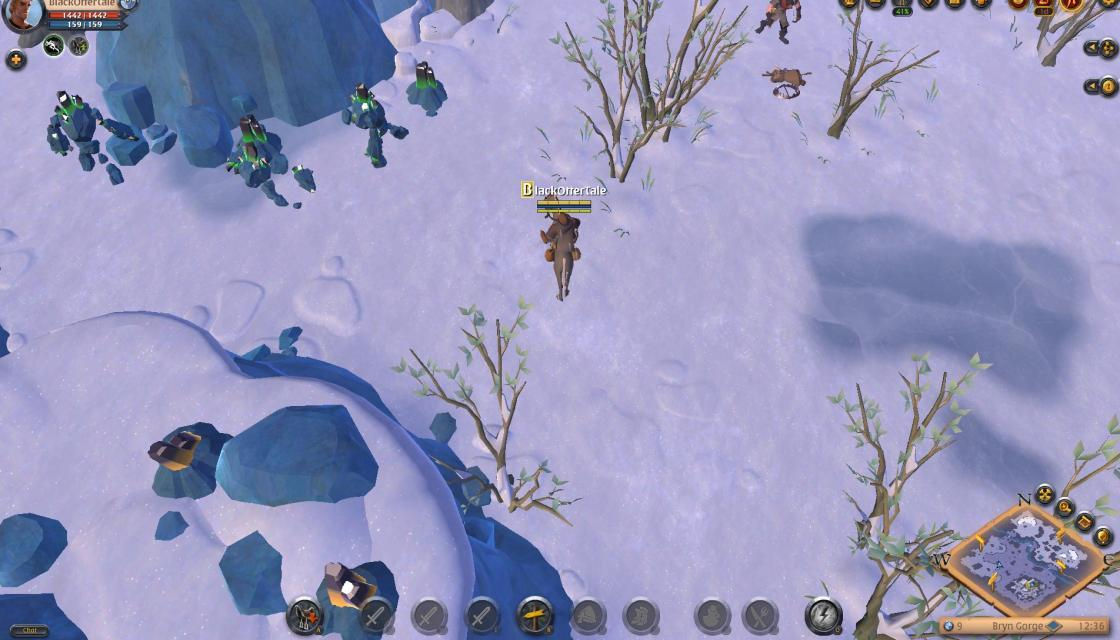copperore: (144, 418, 231, 502), (316, 556, 400, 636)
tinore: (400, 58, 453, 116), (231, 111, 283, 148)
